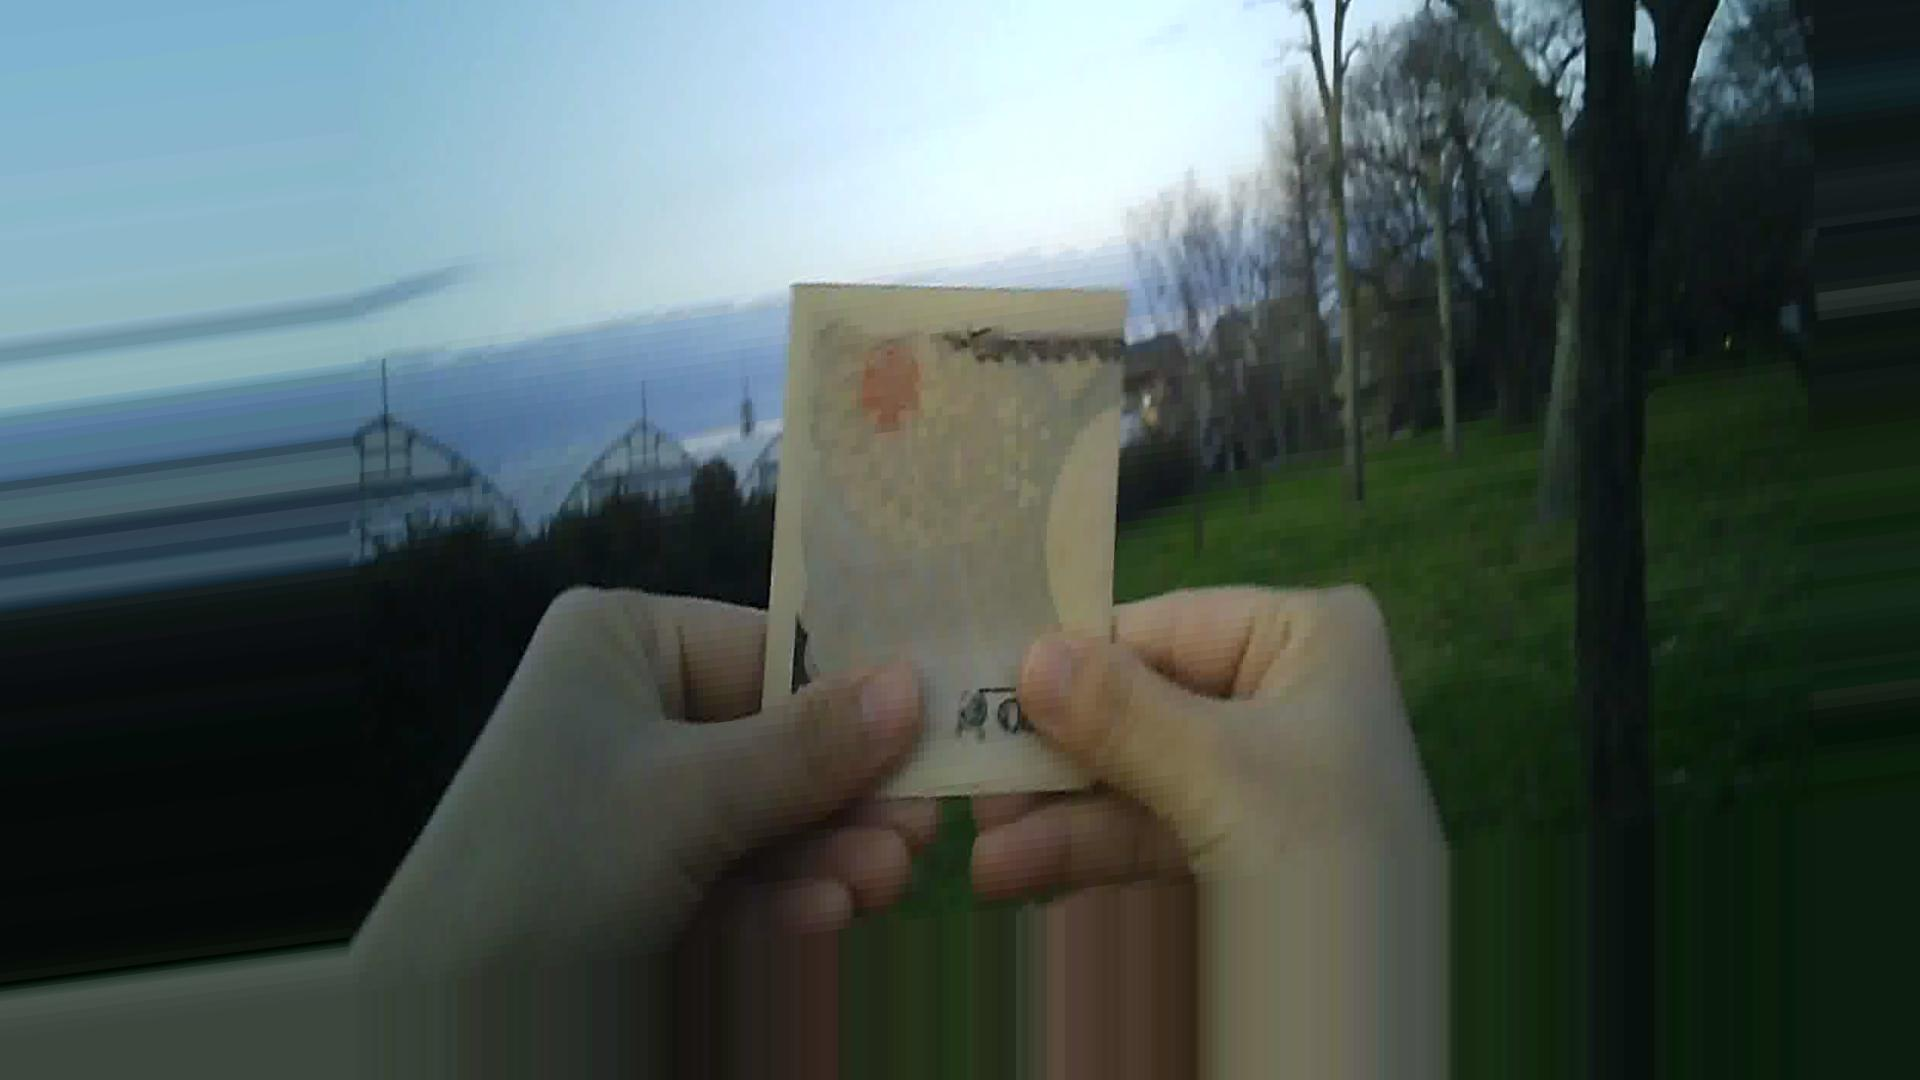10,000 Yen: (748, 260, 1139, 804)
